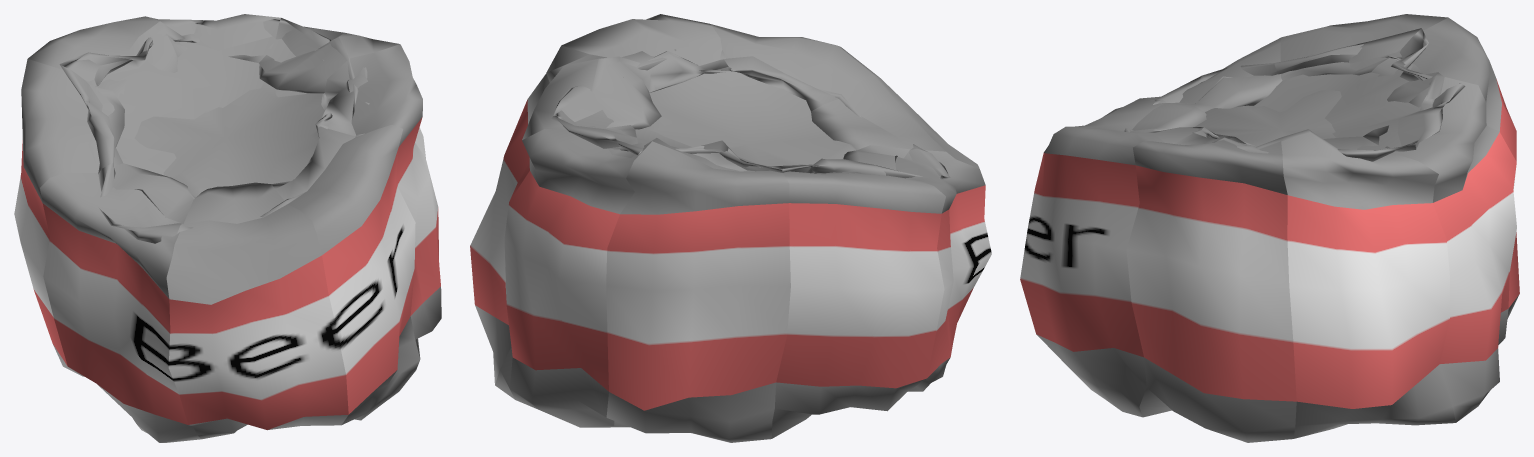
The model's file is BeerCanCrushed.fbx.
3 renders of one model, left to right at view 1: azimuth 30°, elevation 25°; view 2: azimuth 150°, elevation 25°; view 3: azimuth 270°, elevation 25°, orthographic. The views are drawn at different scales.
Visible parts, largest first — view 1: BeerCanCrushed; view 2: BeerCanCrushed; view 3: BeerCanCrushed.
Boxes of the visible parts, left/top/right/bottom form: BeerCanCrushed: left=14, top=14, right=441, bottom=442; BeerCanCrushed: left=470, top=14, right=991, bottom=442; BeerCanCrushed: left=1020, top=14, right=1519, bottom=442.
Size of the model in its own units: 54.84 by 38.55 by 56.43.
